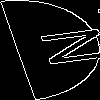N: (25, 25, 100, 70)
